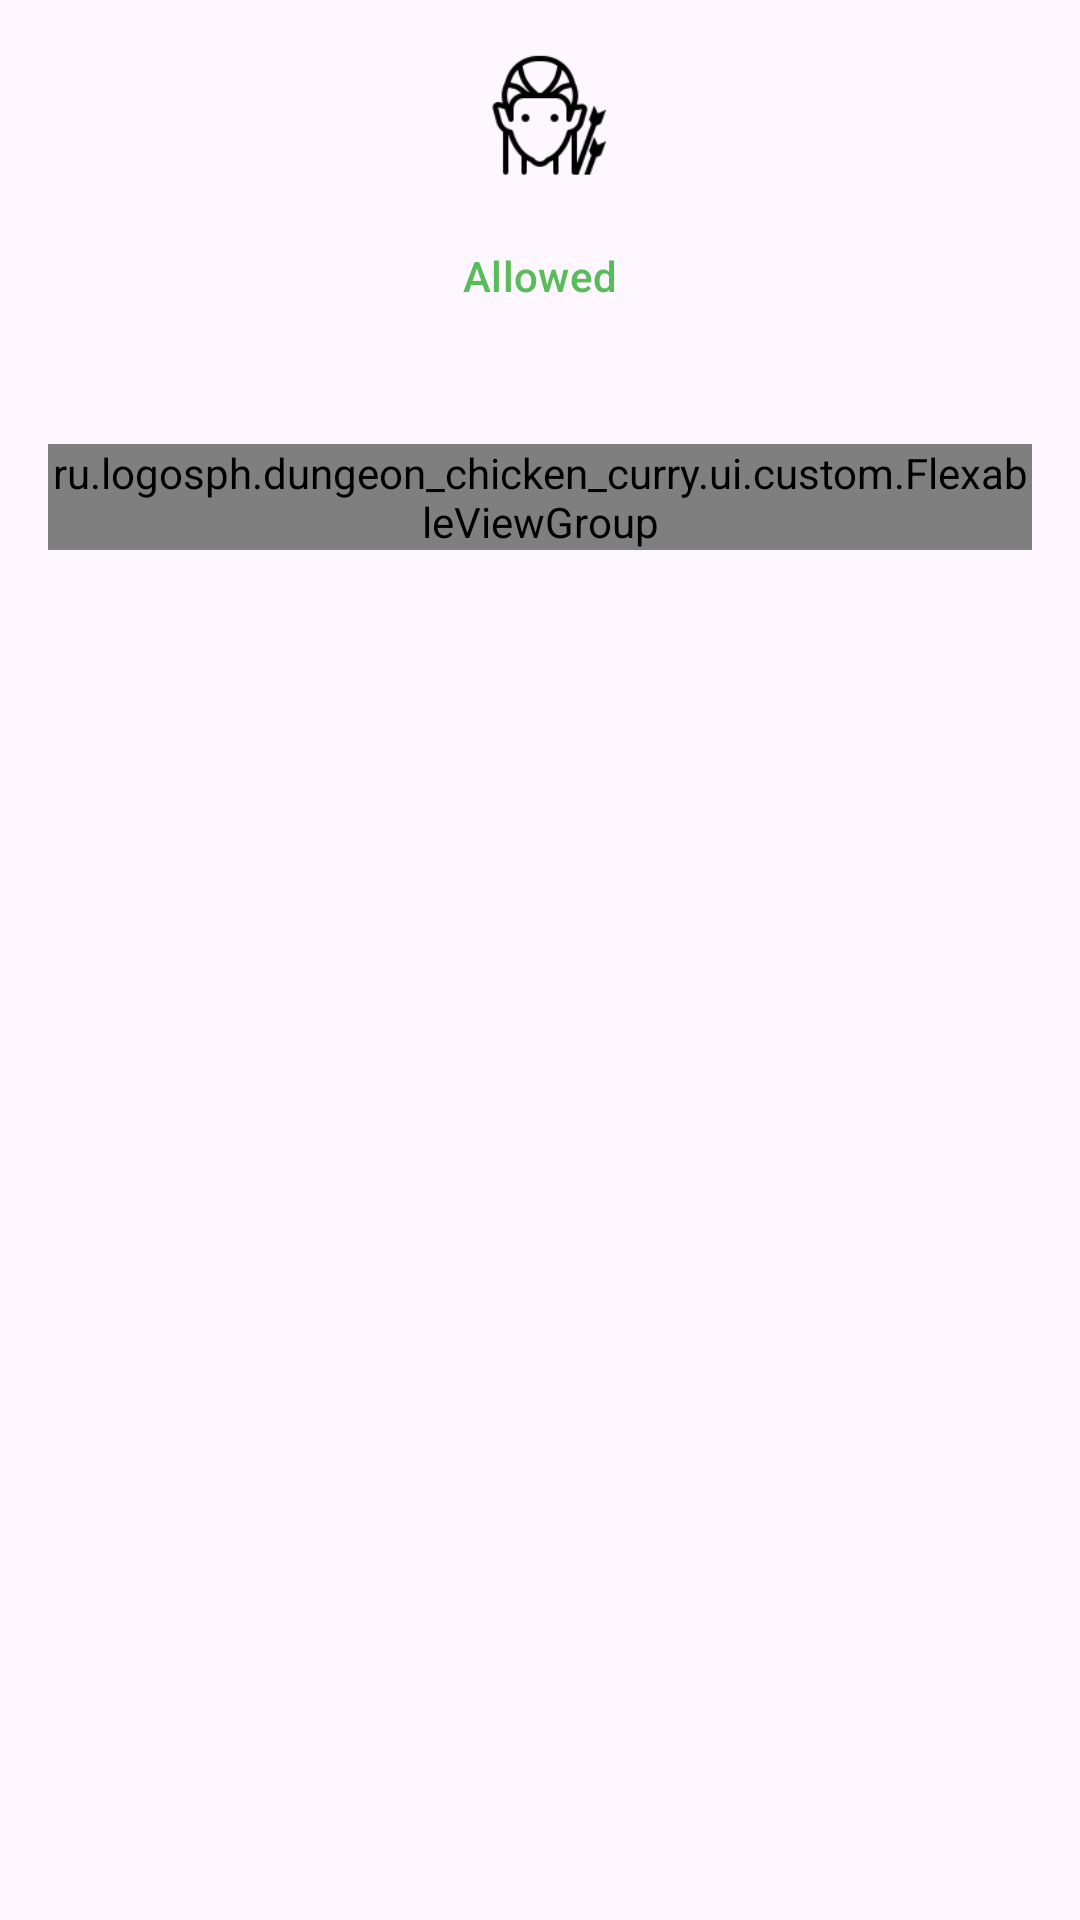

Icon click points for this 1080*1920 phone screenshot, format (x=x, y=y):
elf: (x=549, y=115)
